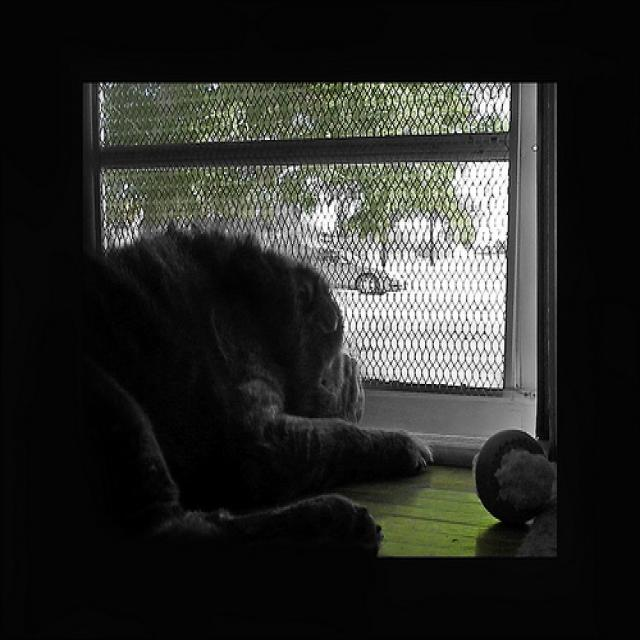Dog: (43, 197, 446, 640)
